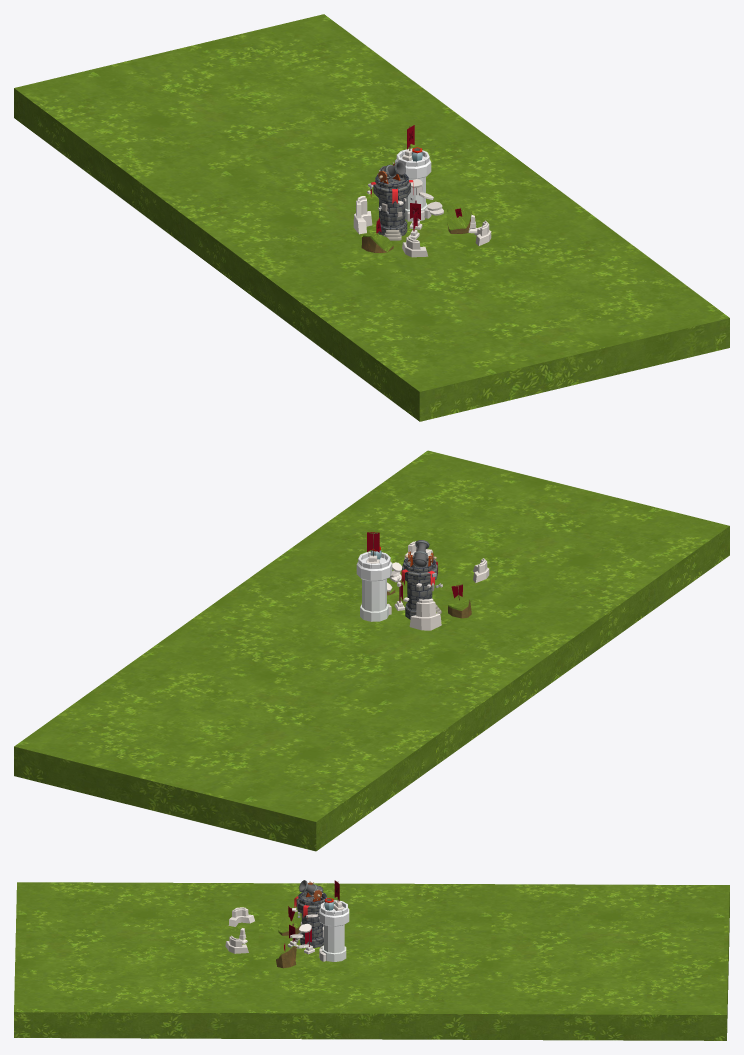
Rendered from new_environment_3.fbx.
3 renders of one model, top to bottom at view 1: azimuth 30°, elevation 25°; view 2: azimuth 150°, elevation 25°; view 3: azimuth 270°, elevation 25°, orthographic. The views are drawn at different scales.
Visible parts, largest first — view 1: polySurface393, polySurface1333, polySurface570; view 2: polySurface393, polySurface570, polySurface1333, polySurface398; view 3: polySurface393, polySurface570, polySurface1333, polySurface442, polySurface435, polySurface577, polySurface549.
Part boxes in pixels (bbox=[...]): polySurface393: bbox=[14, 14, 729, 421]; polySurface1333: bbox=[370, 161, 413, 240]; polySurface570: bbox=[395, 125, 431, 221]; polySurface393: bbox=[14, 450, 729, 851]; polySurface570: bbox=[356, 532, 392, 621]; polySurface1333: bbox=[401, 540, 441, 619]; polySurface398: bbox=[409, 598, 441, 630]; polySurface393: bbox=[14, 882, 729, 1040]; polySurface570: bbox=[319, 880, 349, 961]; polySurface1333: bbox=[293, 880, 327, 947]; polySurface442: bbox=[278, 906, 300, 935]; polySurface435: bbox=[228, 907, 254, 926]; polySurface577: bbox=[276, 943, 296, 968]; polySurface549: bbox=[225, 935, 248, 953].
Bounding box in the file's own units: 128 × 45.23 × 292.
Materials: 9 (8 with a texture image).
